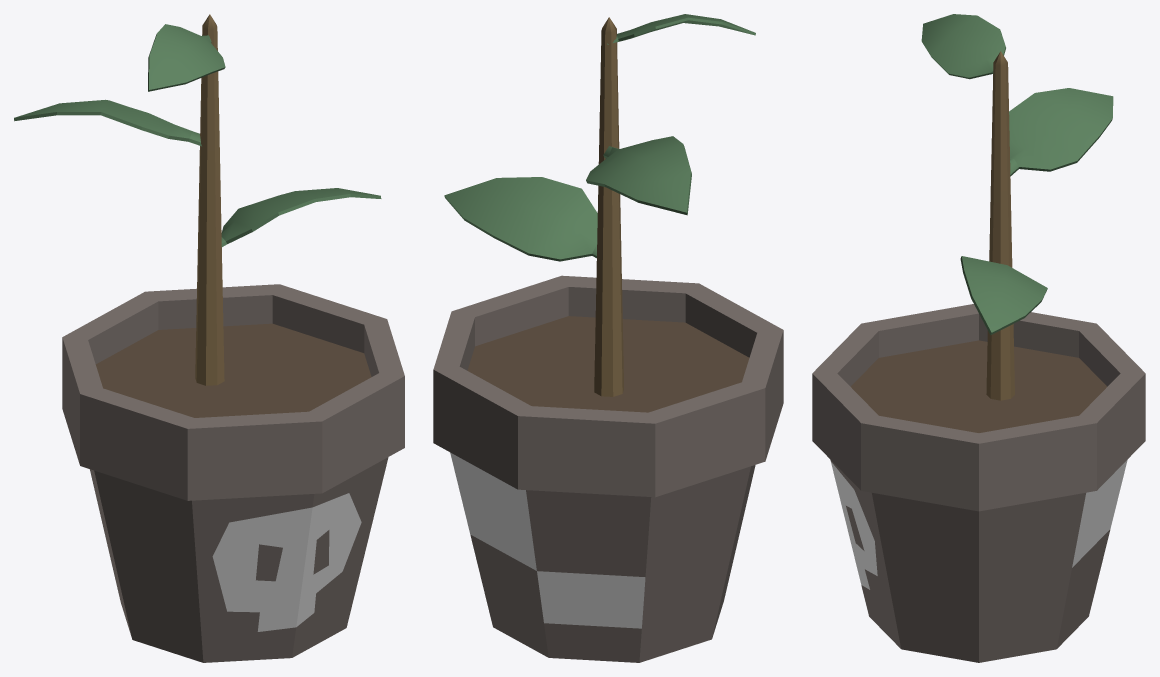
Rendered from poisonPlant(1).fbx.
The picture shows the model from 3 angles, left to right: view 1: azimuth 30°, elevation 25°; view 2: azimuth 150°, elevation 25°; view 3: azimuth 270°, elevation 25°; orthographic projection. The views are drawn at different scales.
Visible parts, largest first — view 1: geo_poisonPlant; view 2: geo_poisonPlant; view 3: geo_poisonPlant.
Part boxes in pixels (x1,y1,x2,y2): geo_poisonPlant: [14, 14, 404, 662]; geo_poisonPlant: [433, 14, 783, 662]; geo_poisonPlant: [812, 14, 1145, 662].
Size of the model in its own units: 0.2643 by 0.4941 by 0.2639.
